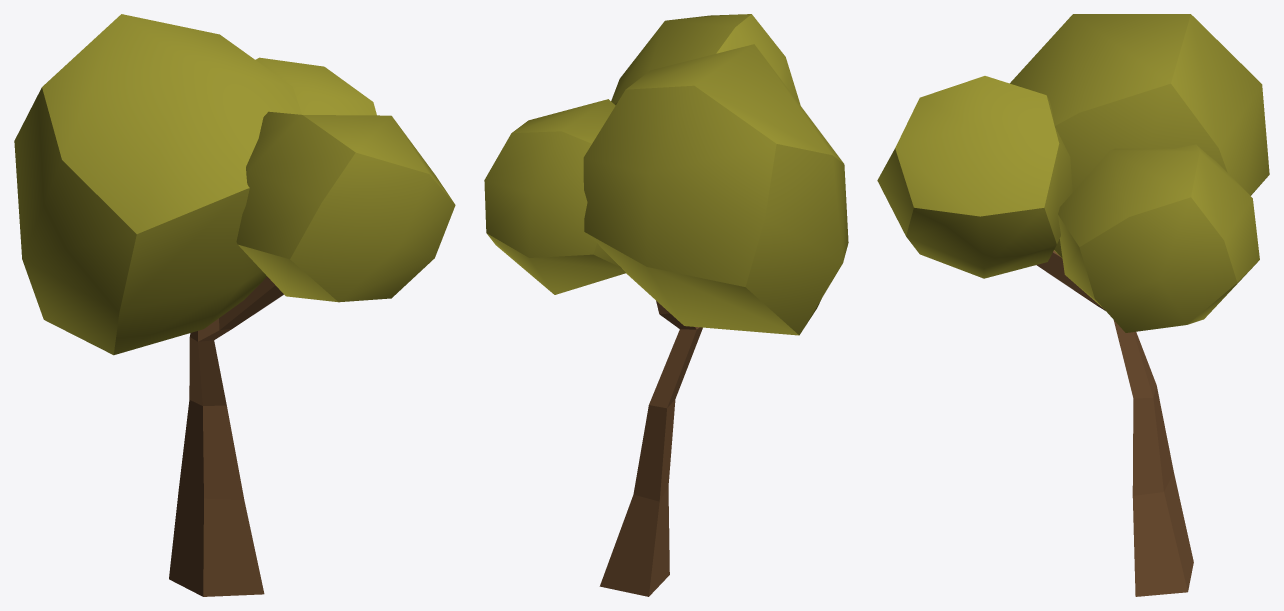
File: tree4.fbx
3 renders of one model, left to right at view 1: azimuth 30°, elevation 25°; view 2: azimuth 150°, elevation 25°; view 3: azimuth 270°, elevation 25°, orthographic. The views are drawn at different scales.
Visible parts, largest first — view 1: trunk8; view 2: trunk8; view 3: trunk8.
Boxes of the visible parts, x1=… form: trunk8: x1=14, y1=14, x2=455, y2=596; trunk8: x1=484, y1=14, x2=848, y2=596; trunk8: x1=877, y1=14, x2=1269, y2=596.
Size of the model in its own units: 47.51 by 70.77 by 47.22.
